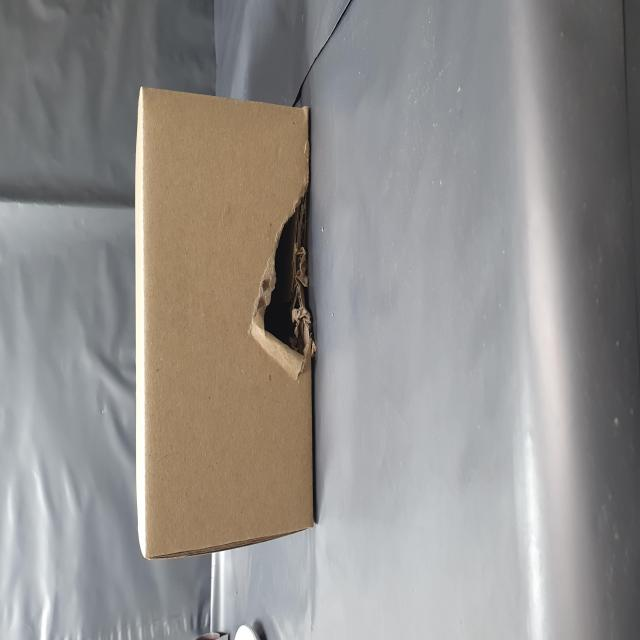damaged: (152, 453, 260, 562)
